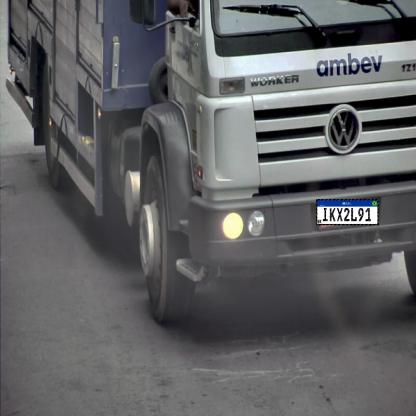PlacaM: (316, 199, 379, 225)
